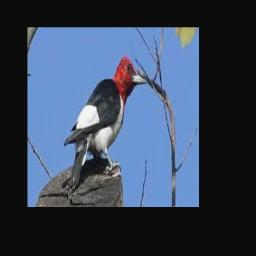Woodpecker: (64, 56, 147, 189)
